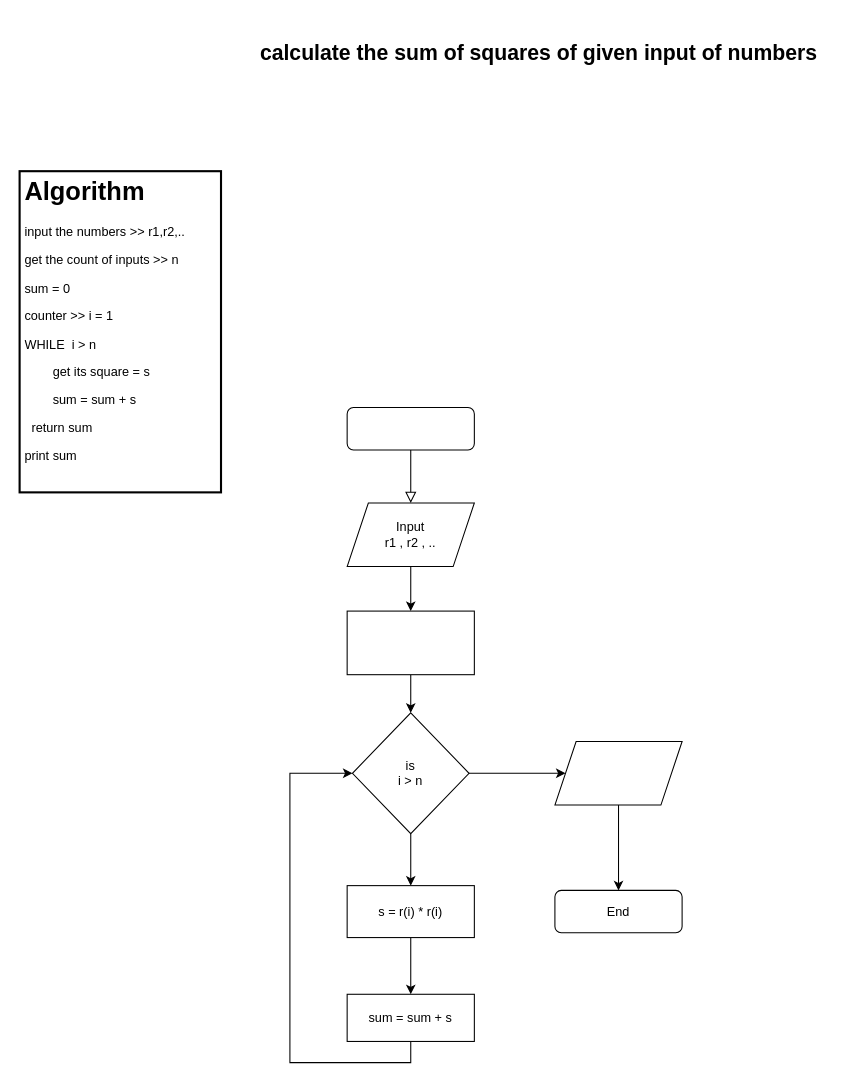
This 853x1090 diagram has some shape labels left out. Each missing label, with the centre of its shape:
print ( sum ): pixel 618 772
set n = no. of inputs sum = 0 i = 1: pixel 410 642
Start: pixel 410 428
